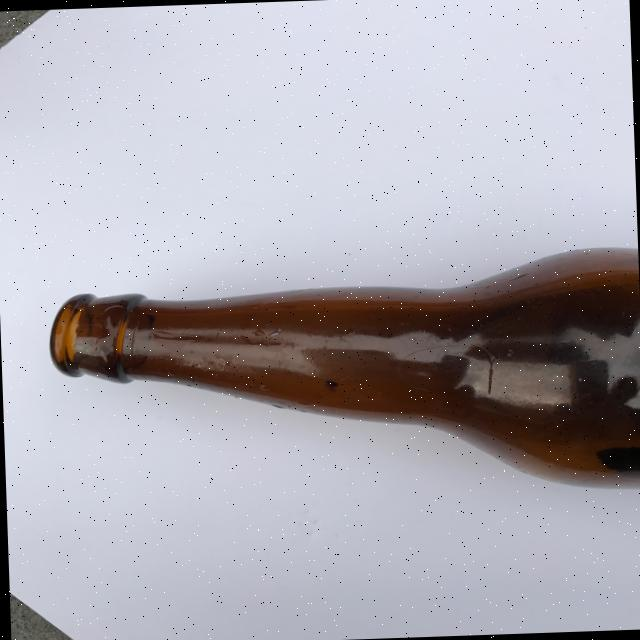glass: (51, 247, 630, 503)
